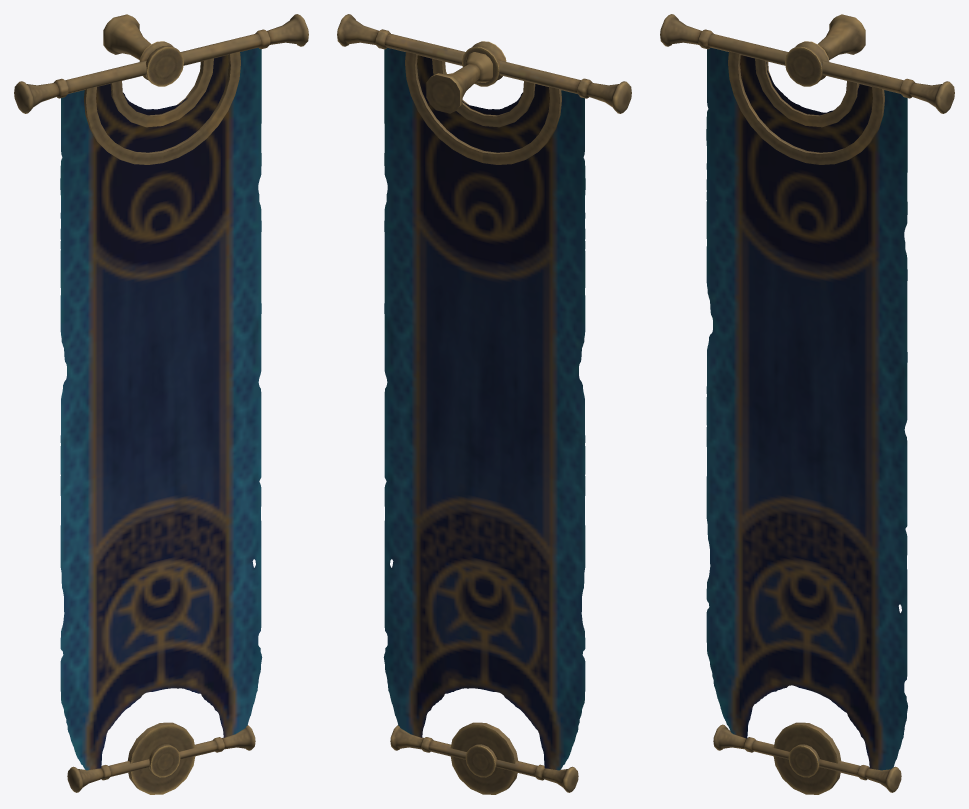
The model's file is ancients_banner_wall_01.glb.
3 renders of one model, left to right at view 1: azimuth 30°, elevation 25°; view 2: azimuth 150°, elevation 25°; view 3: azimuth 330°, elevation 25°, orthographic.
Visible parts, largest first — view 1: ancients_banner_wall_01_a; view 2: ancients_banner_wall_01_a; view 3: ancients_banner_wall_01_a.
Part boxes in pixels (x1,y1,x2,y2): ancients_banner_wall_01_a: (14, 14, 308, 794); ancients_banner_wall_01_a: (337, 14, 631, 794); ancients_banner_wall_01_a: (660, 14, 954, 794).
Bounding box in the file's own units: 2.78 × 7.01 × 0.8404.
2 materials, 2 textured.
